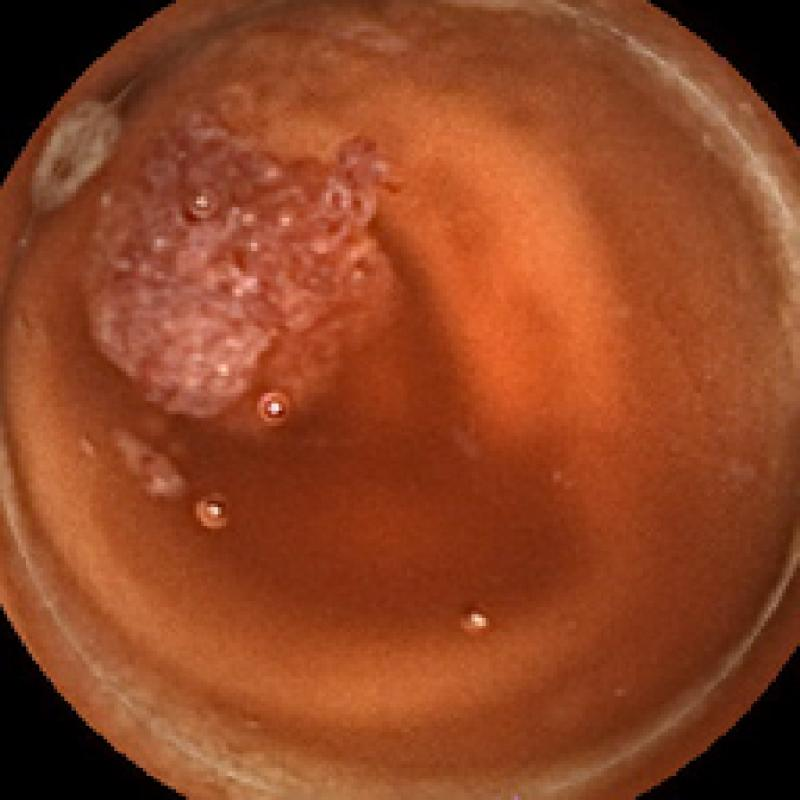bleeding: (60, 118, 411, 421)
